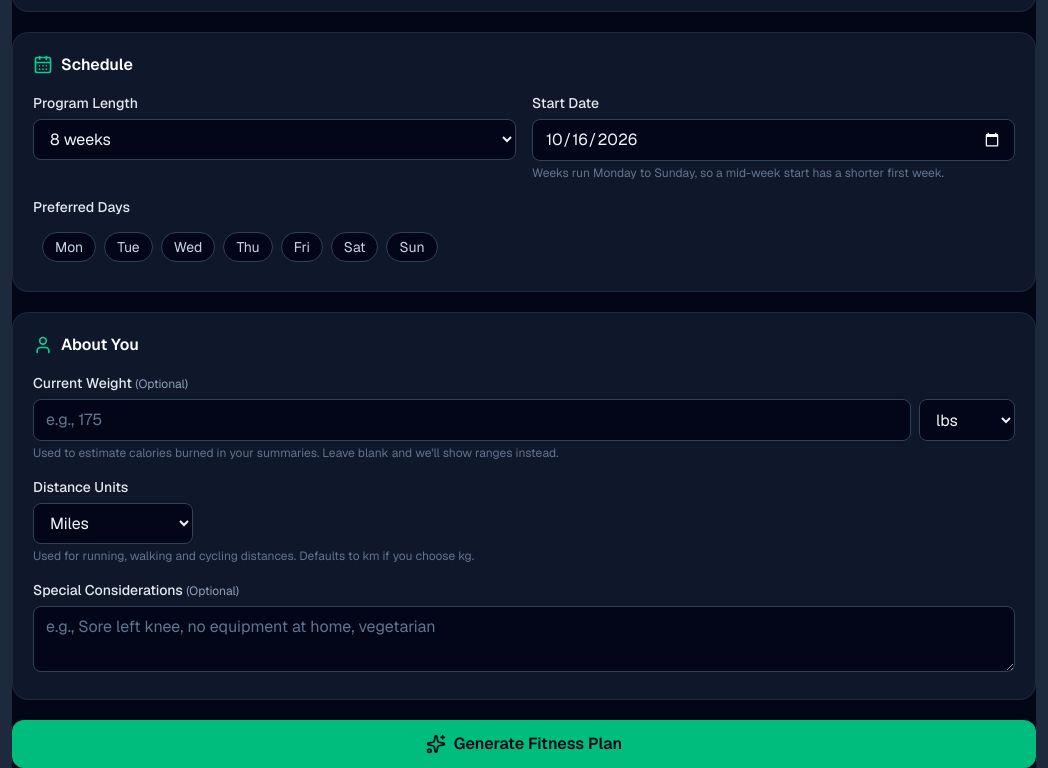
Test: weight and distance units › switches distance to km when kg is chosen, and back again
(page scrolled)
Select "kg" in the dropdown named "Weight unit" at (967, 420), box [919,399,1015,441]
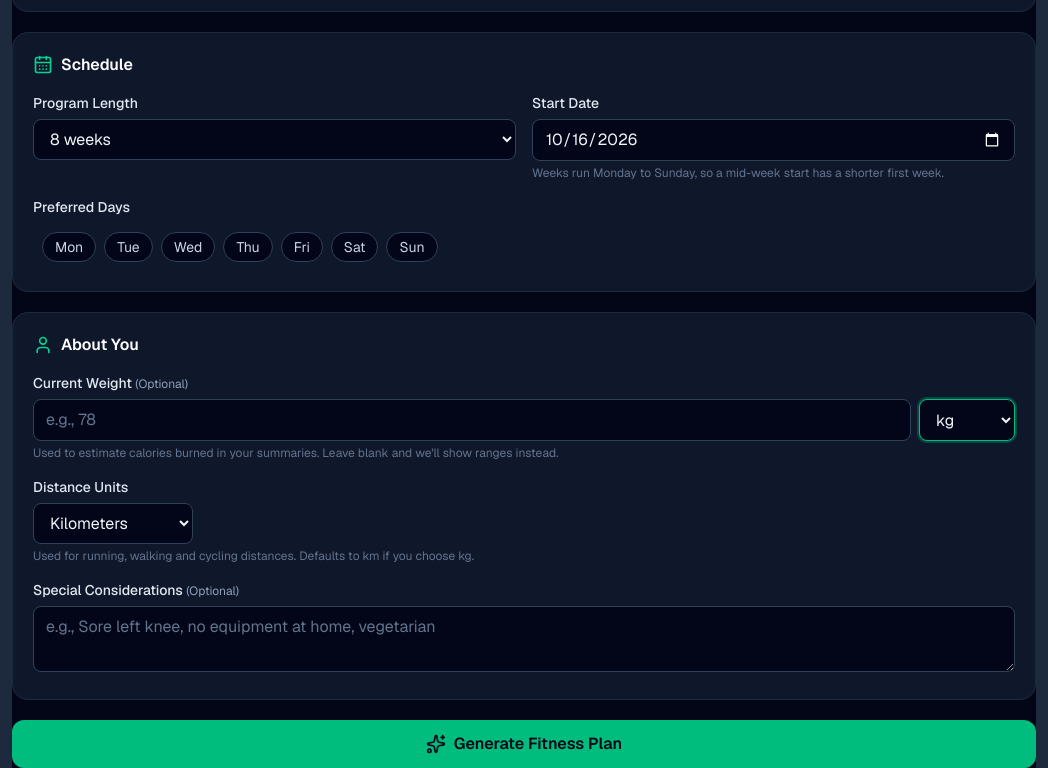
Now the dropdown labelled "Distance Units" shows "Kilometers", box [33,503,193,544]
Select "lbs" in the dropdown named "Weight unit" at (967, 420), box [919,399,1015,441]
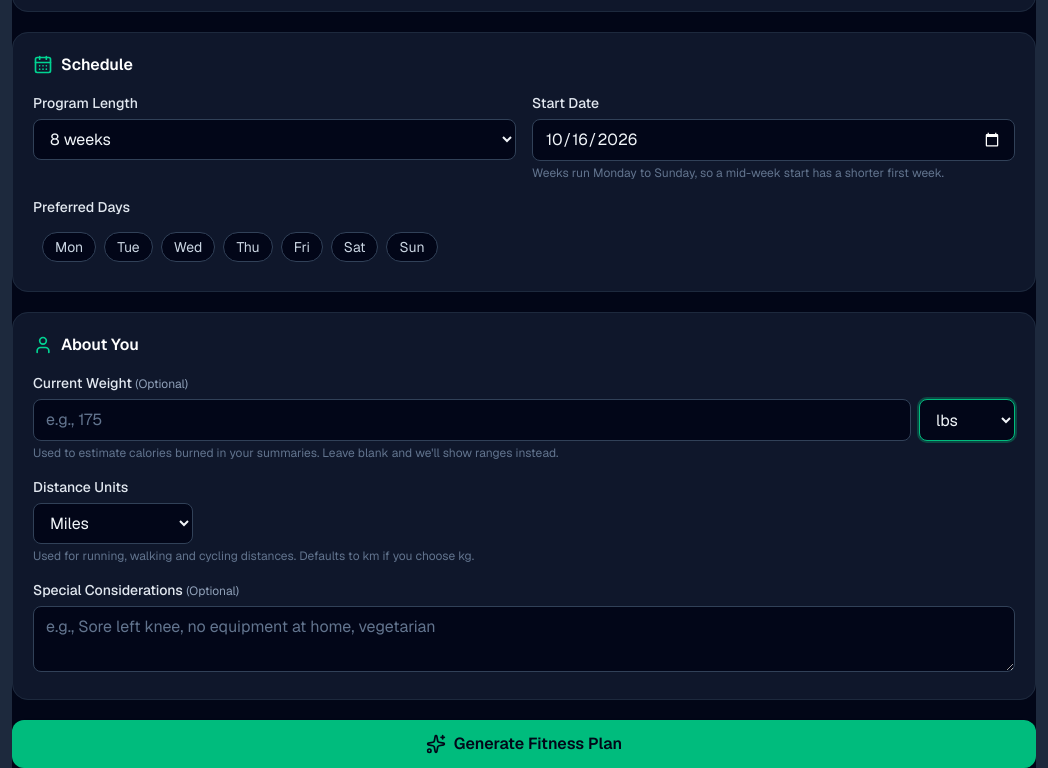
Now the dropdown labelled "Distance Units" shows "Miles", box [33,503,193,544]
